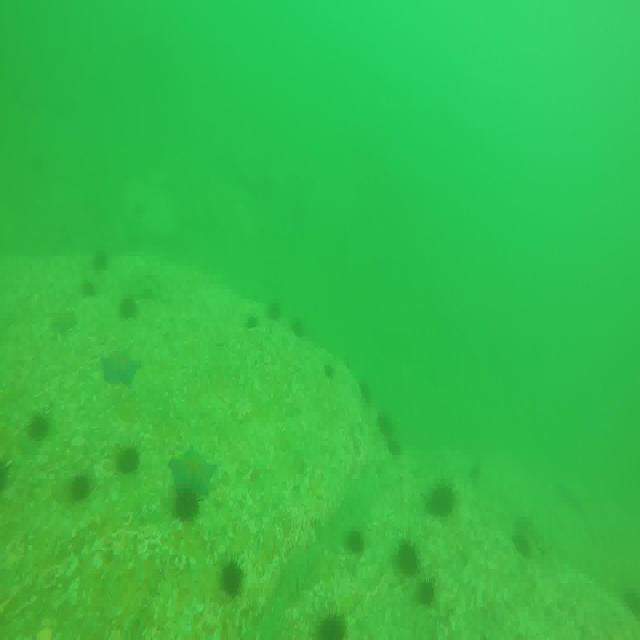echinus: (424, 475, 458, 520), (394, 538, 424, 581), (221, 556, 247, 601), (172, 487, 199, 523), (117, 439, 142, 476), (316, 612, 348, 640), (344, 528, 369, 558), (70, 472, 96, 500), (416, 580, 440, 609), (28, 415, 54, 441), (117, 292, 140, 321), (375, 408, 394, 441), (264, 298, 287, 325), (354, 378, 372, 408), (91, 251, 110, 279), (290, 316, 310, 342), (385, 428, 403, 455), (244, 314, 264, 330), (322, 360, 336, 380), (86, 278, 98, 294)
starfish: (167, 448, 217, 500), (100, 348, 142, 389), (49, 305, 79, 338)
